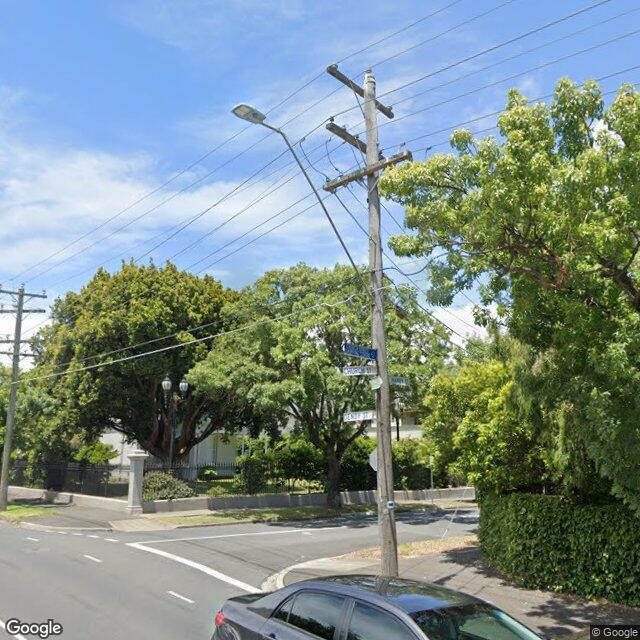HV-transmission: (327, 64, 394, 120), (0, 281, 48, 298)
crossarm: (323, 150, 414, 195), (327, 66, 394, 118), (326, 116, 385, 160), (0, 289, 47, 298), (0, 308, 46, 314)
streetlight: (230, 103, 376, 306)
timber-pole: (365, 75, 399, 578), (0, 288, 24, 511)
